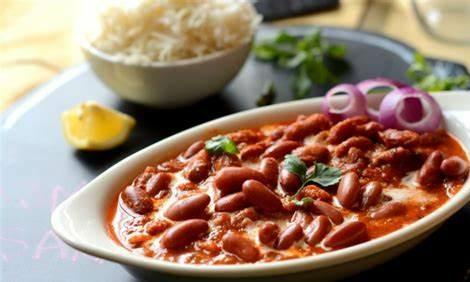RajmaCurry: (105, 115, 459, 262)
